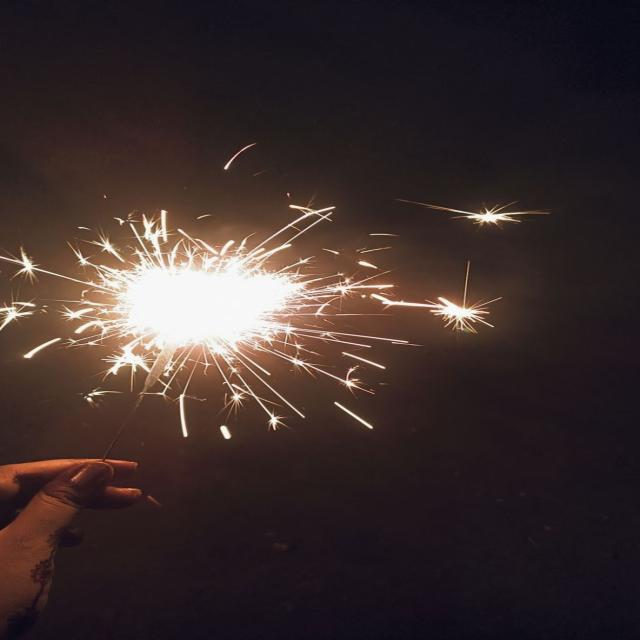fire: (116, 268, 294, 347)
